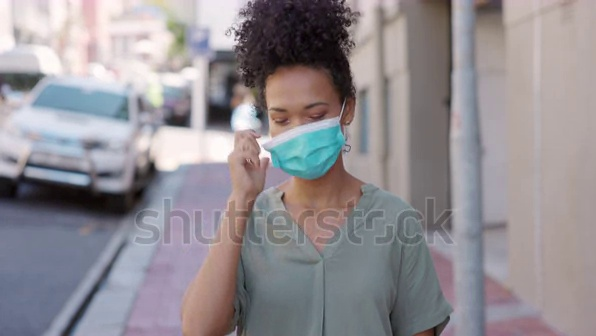Mask: (254, 119, 356, 181)
